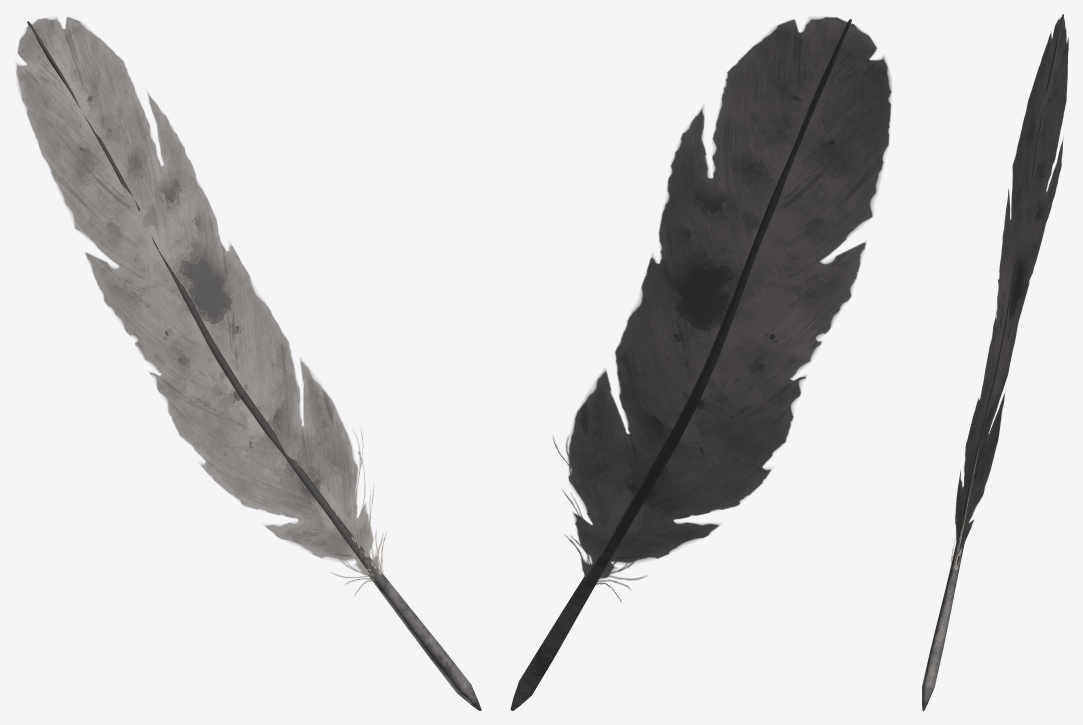
File: free_quill-pen__lowpoly.glb
3 renders of one model, left to right at view 1: azimuth 30°, elevation 25°; view 2: azimuth 150°, elevation 25°; view 3: azimuth 270°, elevation 25°, orthographic. The views are drawn at different scales.
Parts seen in each view (by area): view 1: quill_pen_1_low, quill_pen_2_low, quill_pen_3_low; view 2: quill_pen_1_low, quill_pen_2_low, quill_pen_3_low; view 3: quill_pen_1_low, quill_pen_2_low, quill_pen_3_low.
Part boxes in pixels (bbox=[...]): quill_pen_1_low: bbox=[16, 17, 378, 575]; quill_pen_2_low: bbox=[27, 21, 481, 710]; quill_pen_3_low: bbox=[330, 426, 386, 595]; quill_pen_1_low: bbox=[568, 17, 891, 579]; quill_pen_2_low: bbox=[510, 19, 851, 710]; quill_pen_3_low: bbox=[553, 435, 646, 602]; quill_pen_1_low: bbox=[955, 17, 1068, 566]; quill_pen_2_low: bbox=[922, 14, 1063, 710]; quill_pen_3_low: bbox=[951, 465, 990, 570].
Size of the model in its own units: 0.0573 by 0.1008 by 0.024.
1 material, 1 textured.
